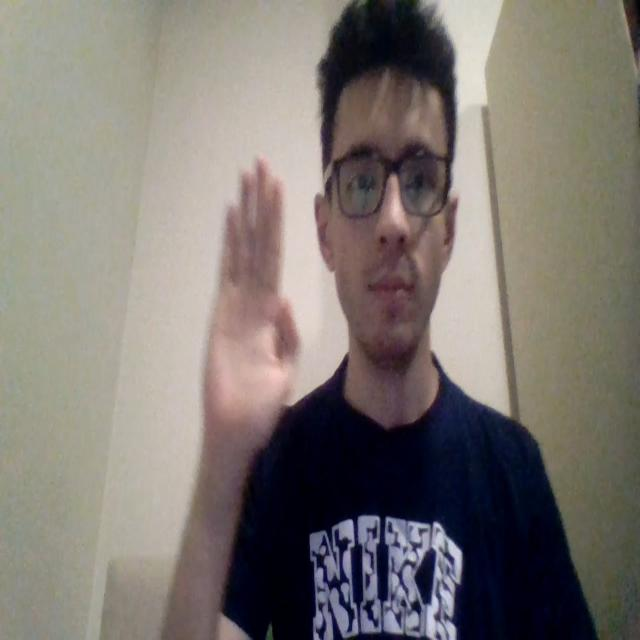hello: (201, 153, 301, 466)
